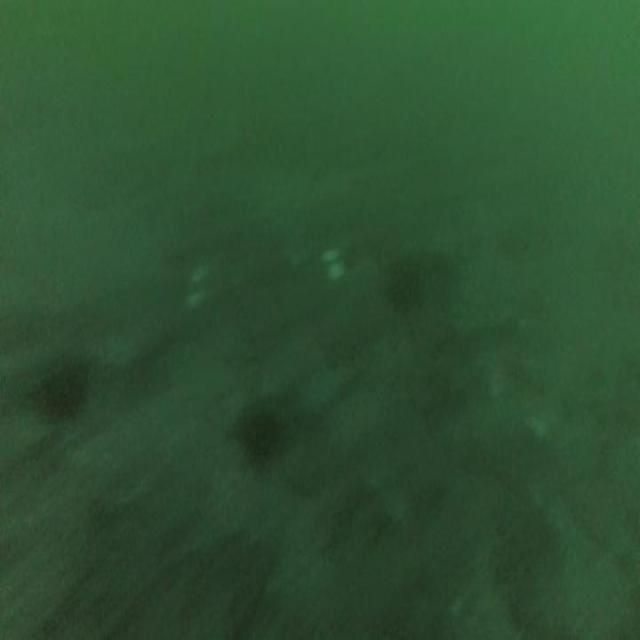echinus: (37, 351, 83, 430), (237, 398, 286, 469), (384, 250, 424, 318)
